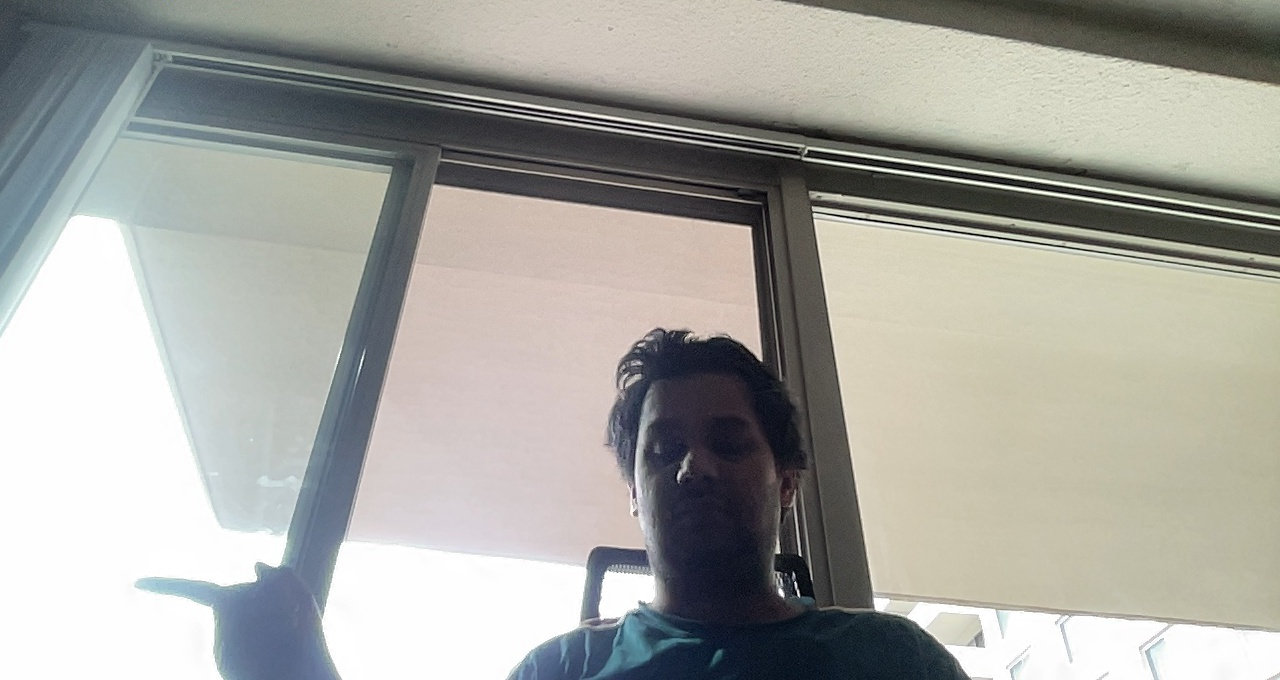fingerright: (128, 553, 347, 675)
